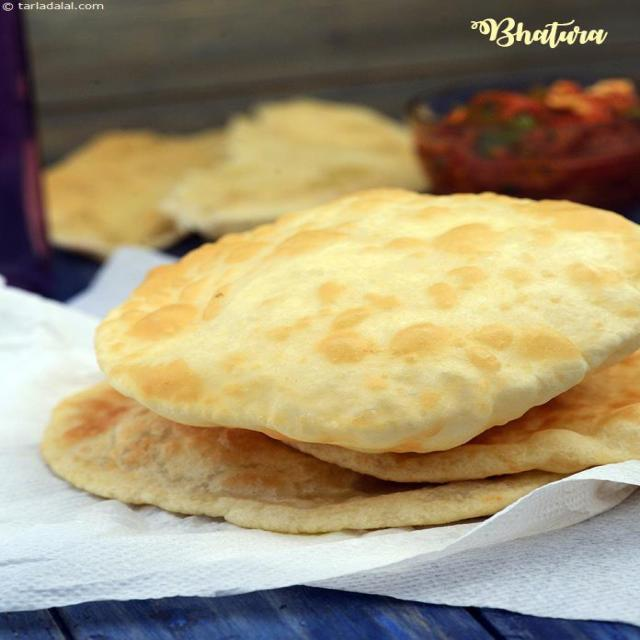puri: (32, 188, 640, 532)
